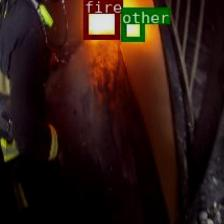fire: (83, 0, 118, 38)
